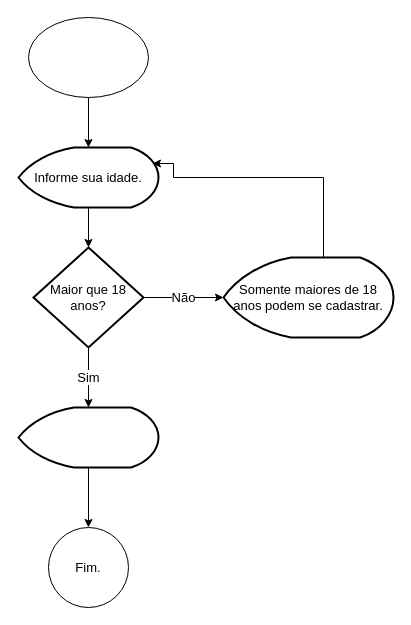
Image size: 411x625. Some labels were removed from this diagram. Each missing label, with the centre of its shape:
Cadastro feito com sucesso!: point (88, 437)
Início: point (88, 57)
